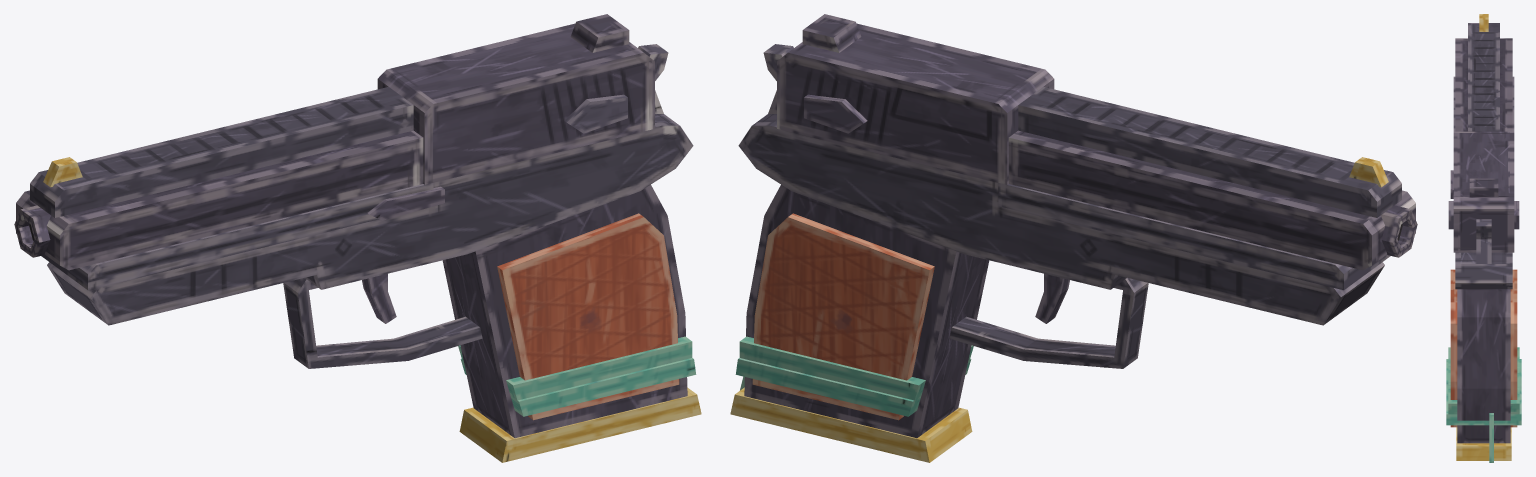
Rendered from pistol_low.fbx.
The picture shows the model from 3 angles, left to right: view 1: azimuth 30°, elevation 25°; view 2: azimuth 150°, elevation 25°; view 3: azimuth 270°, elevation 25°; orthographic projection. The views are drawn at different scales.
Visible parts, largest first — view 1: pistol_low; view 2: pistol_low; view 3: pistol_low.
Boxes of the visible parts, <box> form: pistol_low: <box>14,14,701,462</box>; pistol_low: <box>730,14,1417,462</box>; pistol_low: <box>1446,14,1521,462</box>.
Size of the model in its own units: 1.12 by 0.6525 by 0.1714.
Materials: 1 (1 with a texture image).
